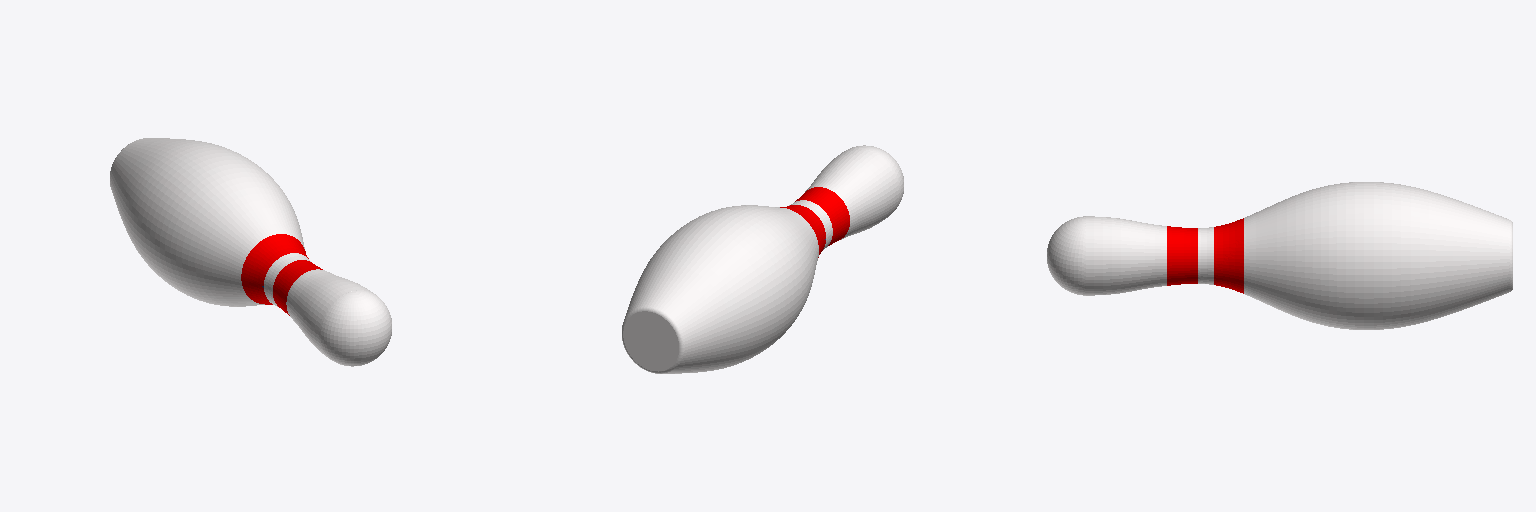
The model's file is bowling_pin.obj.
3 views of the same model, side by side, from view 1: azimuth 30°, elevation 25°; view 2: azimuth 150°, elevation 25°; view 3: azimuth 270°, elevation 25° (orthographic).
Parts seen in each view (by area): view 1: mesh3, mesh18, mesh2, mesh16, mesh6; view 2: mesh3, mesh2, mesh16, mesh0, mesh17, mesh1; view 3: mesh3, mesh2, mesh16, mesh18, mesh17, mesh6, mesh12, mesh11, mesh7.
Boxes of the visible parts, <box> form: mesh3: <box>110,138,304,276</box>; mesh18: <box>319,290,391,366</box>; mesh2: <box>110,182,264,306</box>; mesh16: <box>286,269,372,334</box>; mesh6: <box>255,234,308,285</box>; mesh3: <box>625,205,818,347</box>; mesh2: <box>665,252,818,373</box>; mesh16: <box>805,148,898,220</box>; mesh0: <box>623,311,678,371</box>; mesh17: <box>841,194,898,239</box>; mesh1: <box>622,307,683,373</box>; mesh3: <box>1244,182,1509,286</box>; mesh2: <box>1244,271,1509,329</box>; mesh16: <box>1086,216,1166,272</box>; mesh18: <box>1047,216,1085,295</box>; mesh17: <box>1086,269,1166,295</box>; mesh6: <box>1214,218,1243,268</box>; mesh12: <box>1167,238,1197,268</box>; mesh11: <box>1198,227,1213,267</box>; mesh7: <box>1214,269,1243,293</box>.
Bounding box in the file's own units: 0.1212 × 0.1212 × 0.3809.